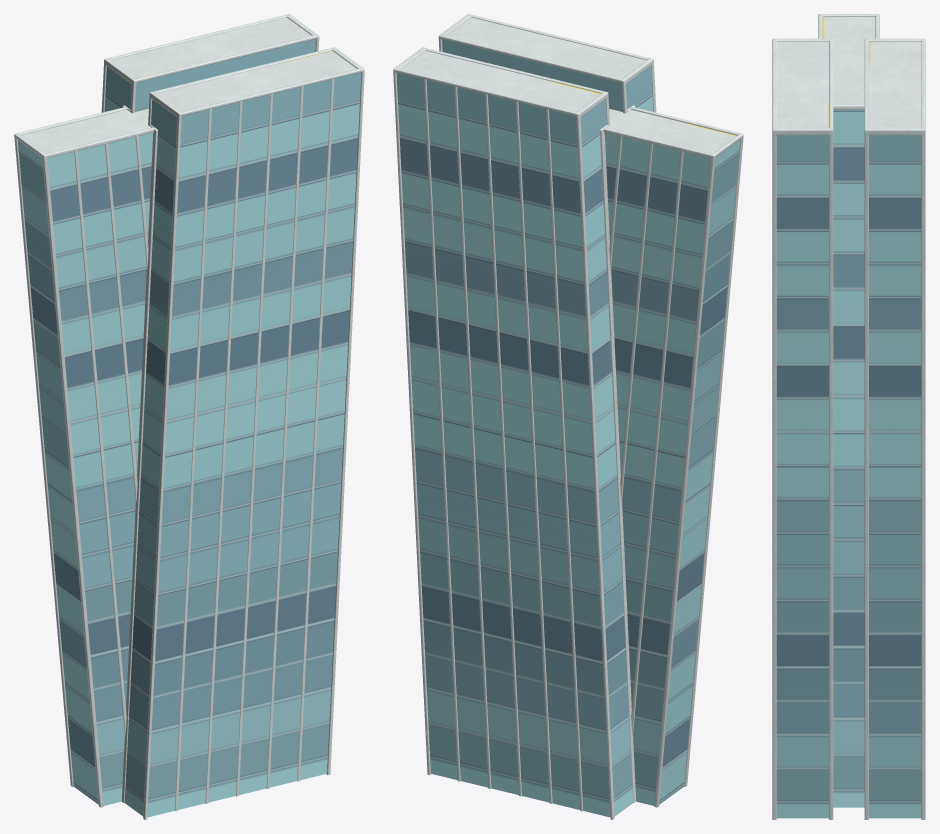
3 views of the same model, side by side, from view 1: azimuth 30°, elevation 25°; view 2: azimuth 150°, elevation 25°; view 3: azimuth 270°, elevation 25° (orthographic).
Visible parts, largest first — view 1: Towers, Frames; view 2: Towers, Frames; view 3: Towers, Frames.
Boxes of the visible parts, x1=… form: Towers: x1=17, y1=17, x2=361, y2=817; Frames: x1=14, y1=14, x2=364, y2=819; Towers: x1=396, y1=17, x2=739, y2=817; Frames: x1=393, y1=14, x2=743, y2=819; Towers: x1=776, y1=17, x2=921, y2=818; Frames: x1=772, y1=14, x2=925, y2=819.
Size of the model in its own units: 60.65 by 135 by 26.59.
1 material, 1 textured.
